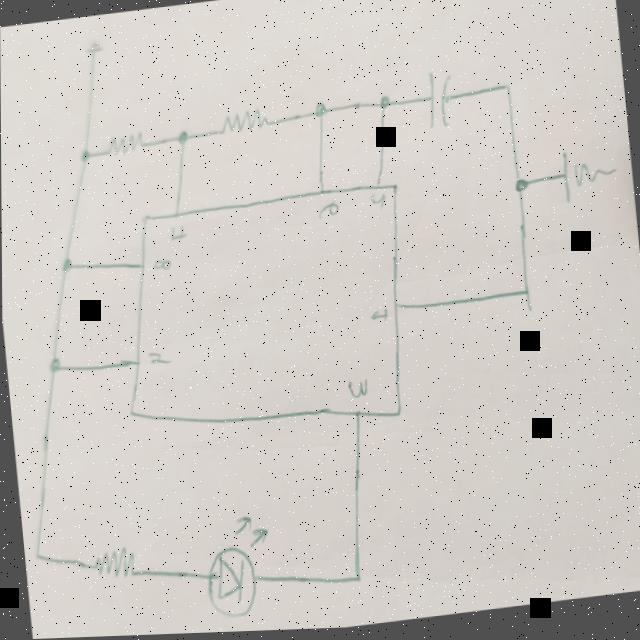capacitor: (418, 72, 455, 131)
diode: (197, 513, 274, 627)
ground: (554, 149, 618, 208)
junction: (513, 283, 535, 308), (509, 176, 529, 199), (346, 570, 366, 592), (495, 81, 515, 103), (42, 355, 62, 376), (172, 128, 190, 151), (310, 101, 328, 124), (55, 254, 72, 277), (374, 96, 392, 117), (28, 542, 46, 563), (76, 145, 92, 167)
resistor: (88, 542, 141, 585), (214, 108, 271, 140), (101, 132, 148, 159)
source: (80, 33, 105, 60)
text: (341, 378, 367, 403), (314, 202, 340, 224), (144, 351, 168, 369), (164, 225, 185, 243), (148, 256, 169, 274), (367, 309, 386, 328), (366, 193, 383, 210)
